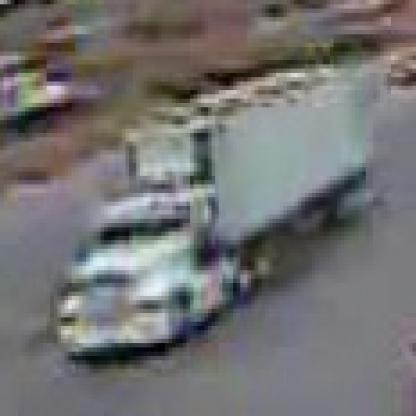container: (55, 96, 378, 349)
